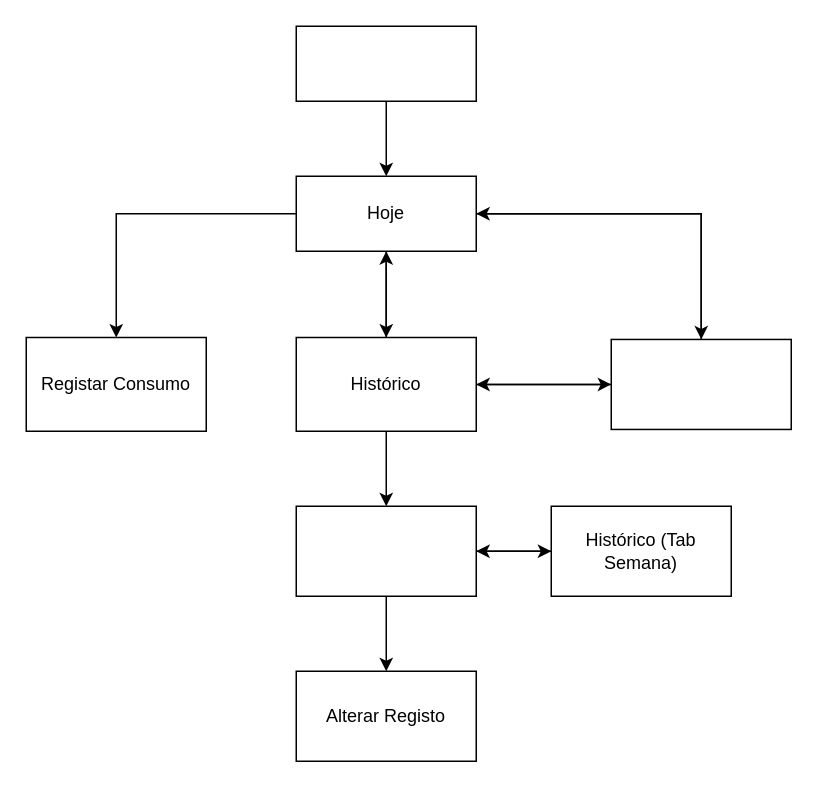
This 818x788 diagram has some shape labels left out. Each missing label, with the box of its shape:
AquaTrack: (295, 25, 476, 101)
Definições: (610, 338, 791, 429)
Histórico (Tab Dia): (295, 505, 476, 596)
